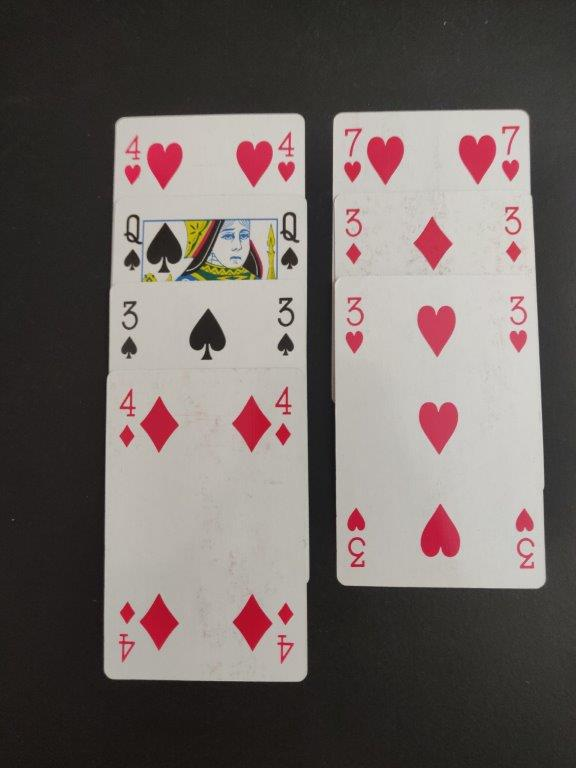3D: (497, 201, 530, 265), (338, 203, 367, 272)
3H: (503, 289, 534, 357), (340, 293, 369, 360)
3S: (114, 292, 144, 364), (272, 292, 299, 364)
4D: (270, 381, 297, 452), (113, 385, 139, 456)
4H: (119, 131, 146, 193), (271, 128, 299, 185)
7H: (496, 121, 526, 189), (341, 122, 368, 186)
QS: (276, 203, 303, 276), (116, 210, 145, 272)
